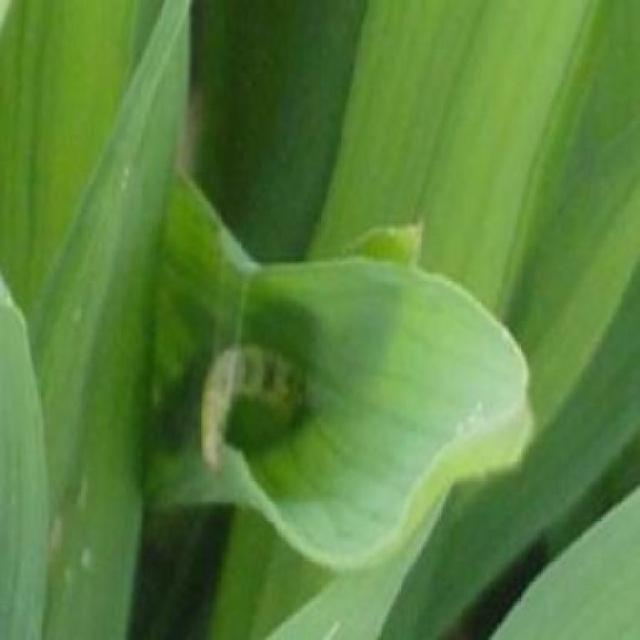leaf-folder: (180, 318, 325, 500)
